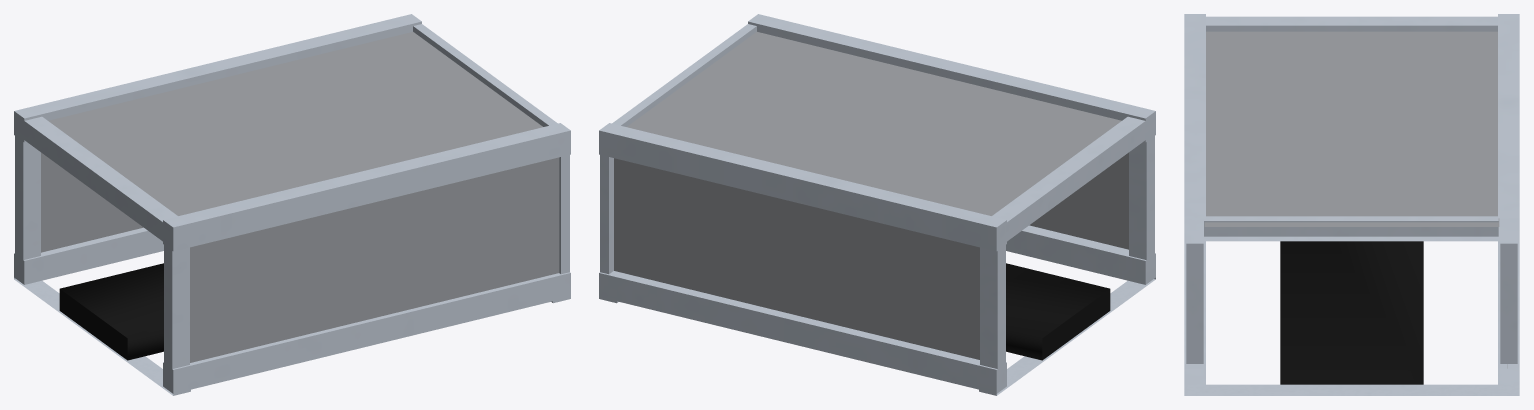
The model's file is SM05_Industrial_CableTray_01_Mid_02.fbx.
The picture shows the model from 3 angles, left to right: view 1: azimuth 30°, elevation 25°; view 2: azimuth 150°, elevation 25°; view 3: azimuth 270°, elevation 25°; orthographic projection. The views are drawn at different scales.
Parts seen in each view (by area): view 1: SM05_Industrial_CableTray_01_Mid_02; view 2: SM05_Industrial_CableTray_01_Mid_02; view 3: SM05_Industrial_CableTray_01_Mid_02.
Part boxes in pixels (<box>): SM05_Industrial_CableTray_01_Mid_02: <box>14,14,570,395</box>; SM05_Industrial_CableTray_01_Mid_02: <box>599,14,1155,395</box>; SM05_Industrial_CableTray_01_Mid_02: <box>1184,14,1519,395</box>.
Bounding box in the file's own units: 93.75 × 37.96 × 65.
